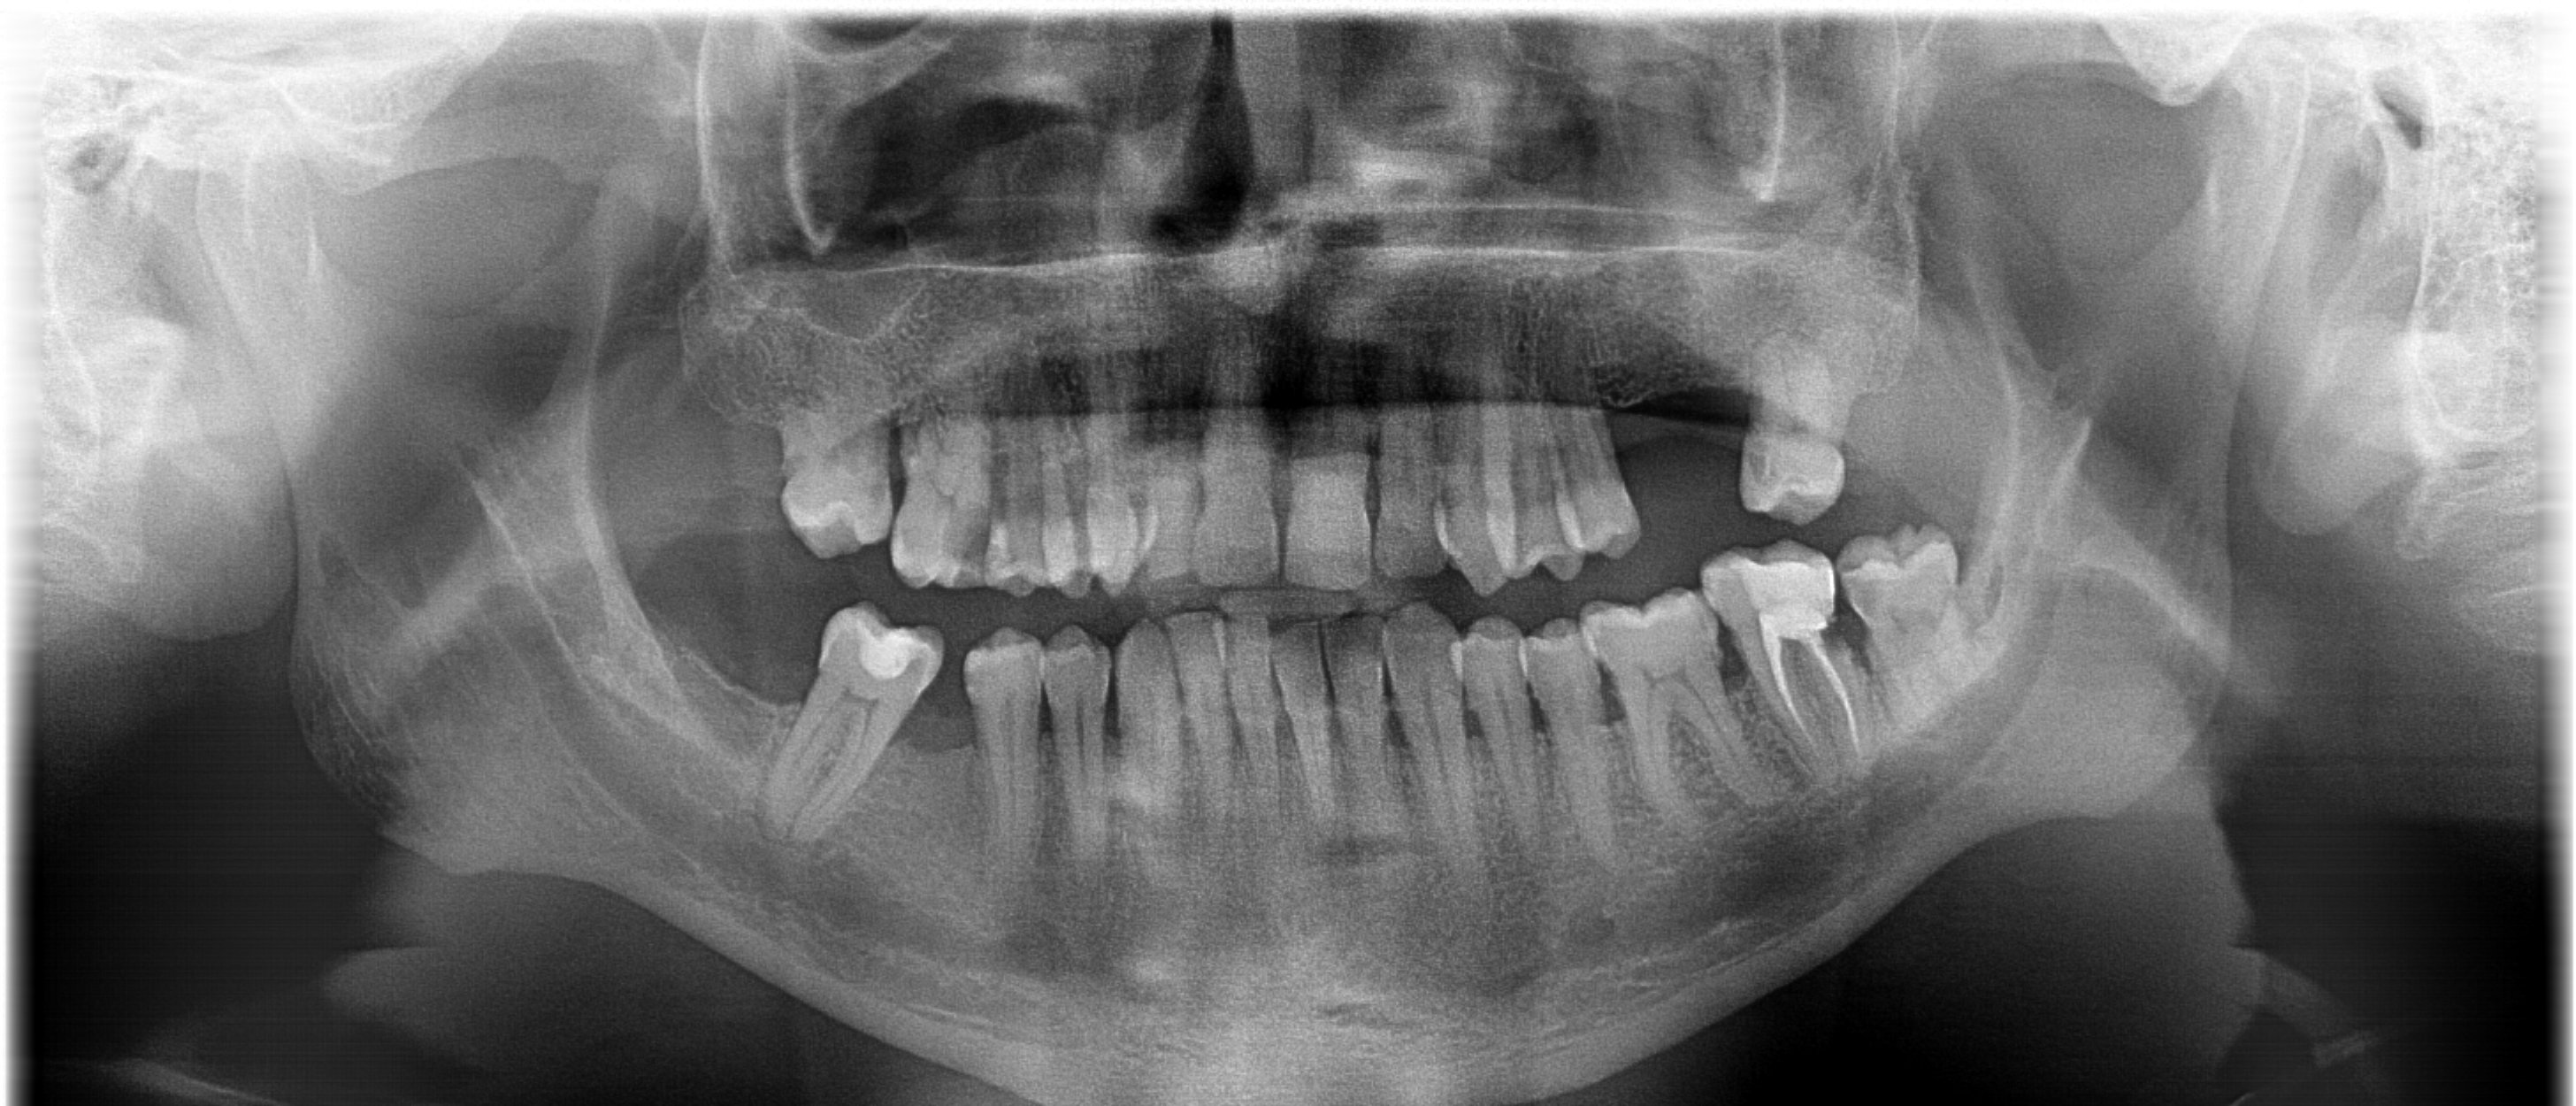apinamiento: (899, 486, 1203, 593)
cordal: (1824, 491, 2019, 713), (1712, 304, 1889, 539)
diastema: (910, 620, 991, 891)
tratamiento_conducto: (1686, 524, 1907, 795)
zona_dentula: (1584, 357, 1805, 528)
